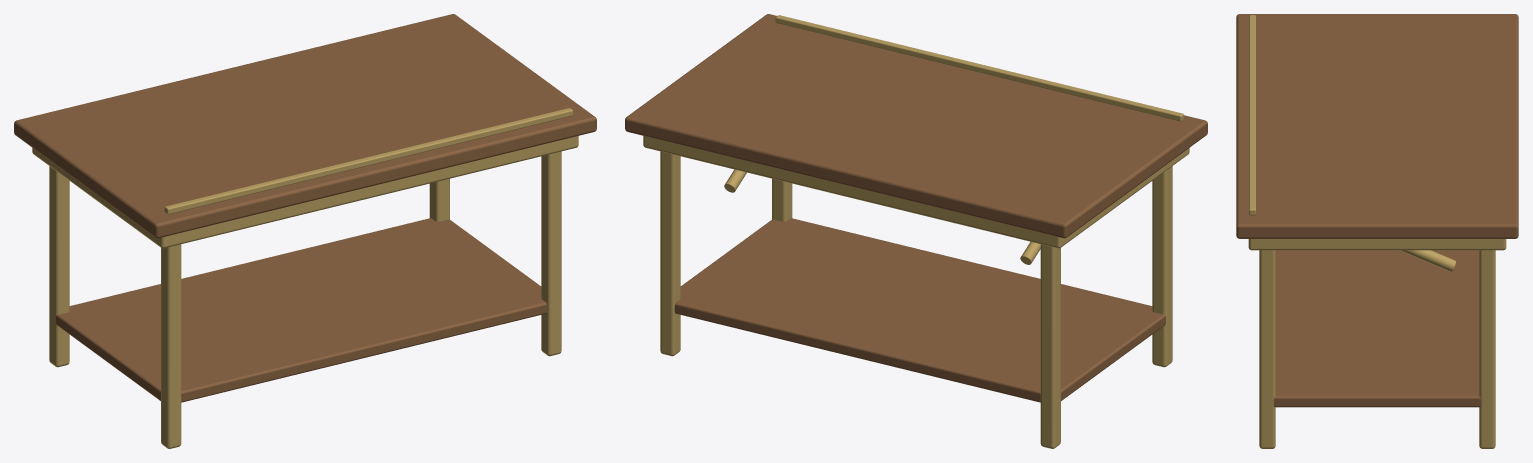
File: fantasy-cartographers-map-printing-guild-adjustable-dr-58ba81b8__32229.glb
The picture shows the model from 3 angles, left to right: view 1: azimuth 30°, elevation 25°; view 2: azimuth 150°, elevation 25°; view 3: azimuth 270°, elevation 25°; orthographic projection.
Parts seen in each view (by area): view 1: adjustable-drafting-table; view 2: adjustable-drafting-table; view 3: adjustable-drafting-table.
Part boxes in pixels (box(x1,y1,x2,y2)): adjustable-drafting-table: box(14, 14, 596, 448); adjustable-drafting-table: box(625, 14, 1207, 448); adjustable-drafting-table: box(1236, 14, 1518, 448).
Bounding box in the file's own units: 1.85 × 0.9879 × 1.04.
